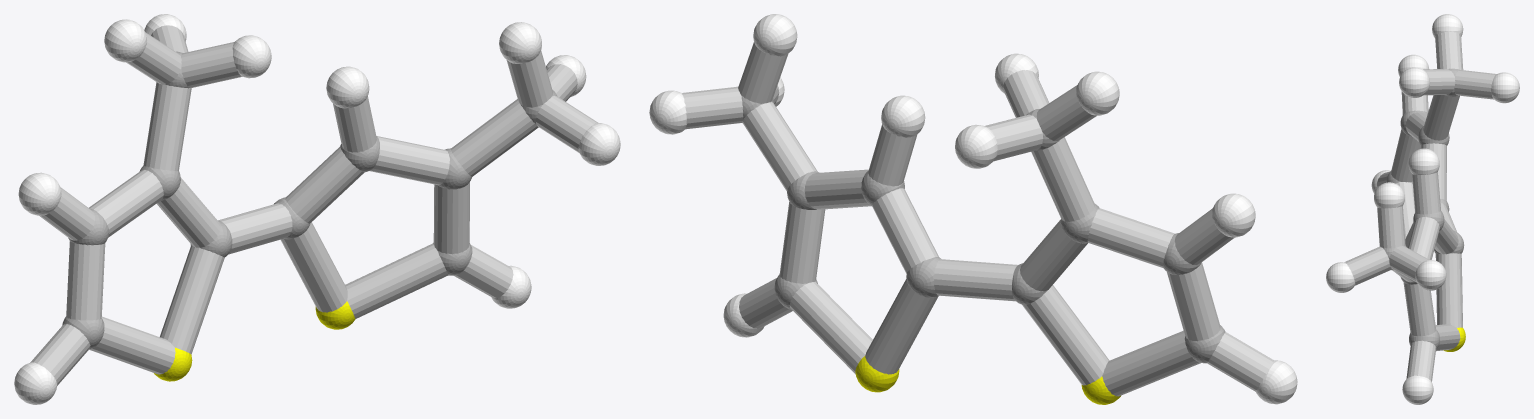
Rendered from Methylthiophene_Phi_25_Theta_200_Methylthiophene.glb.
3 renders of one model, left to right at view 1: azimuth 30°, elevation 25°; view 2: azimuth 150°, elevation 25°; view 3: azimuth 270°, elevation 25°, orthographic. The views are drawn at different scales.
Visible parts, largest first — view 1: grp7965, grp3621, grp1, grp7241; view 2: grp7965, grp3621, grp1, grp7241; view 3: grp7965, grp3621, grp1.
Boxes of the visible parts, x1,y1,x2,y2 form: grp7965: (30, 25, 598, 385); grp3621: (14, 14, 620, 404); grp1: (62, 51, 557, 349); grp7241: (154, 301, 355, 381); grp7965: (682, 42, 1274, 396); grp3621: (649, 14, 1297, 404); grp1: (741, 96, 1225, 363); grp7241: (855, 356, 1120, 404); grp7965: (1344, 31, 1496, 381); grp3621: (1326, 14, 1519, 404); grp1: (1383, 68, 1464, 348).
Bounding box in the file's own units: 9.57 × 5.52 × 3.73.
